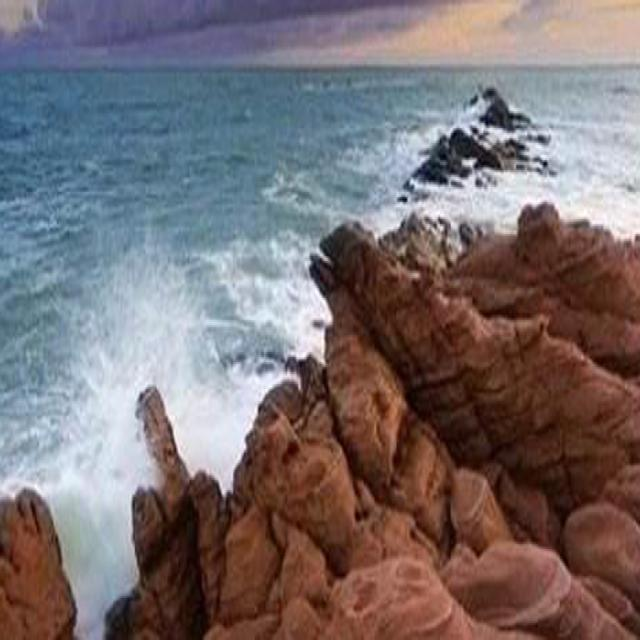reef: (155, 116, 640, 640)
